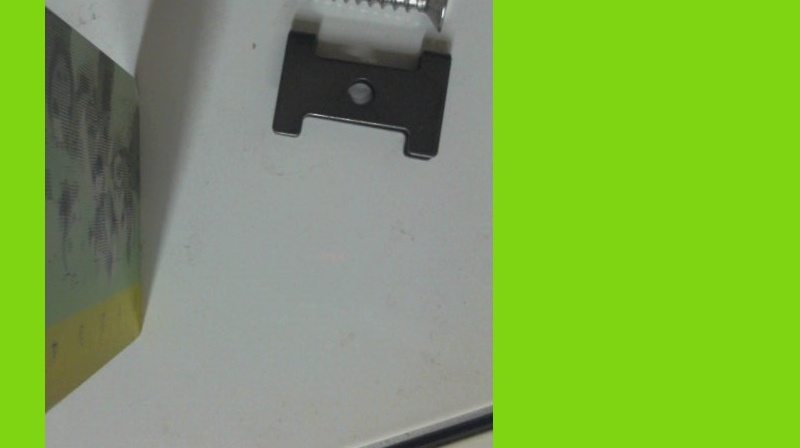O002: (274, 31, 452, 159)
S001: (266, 0, 456, 32)
